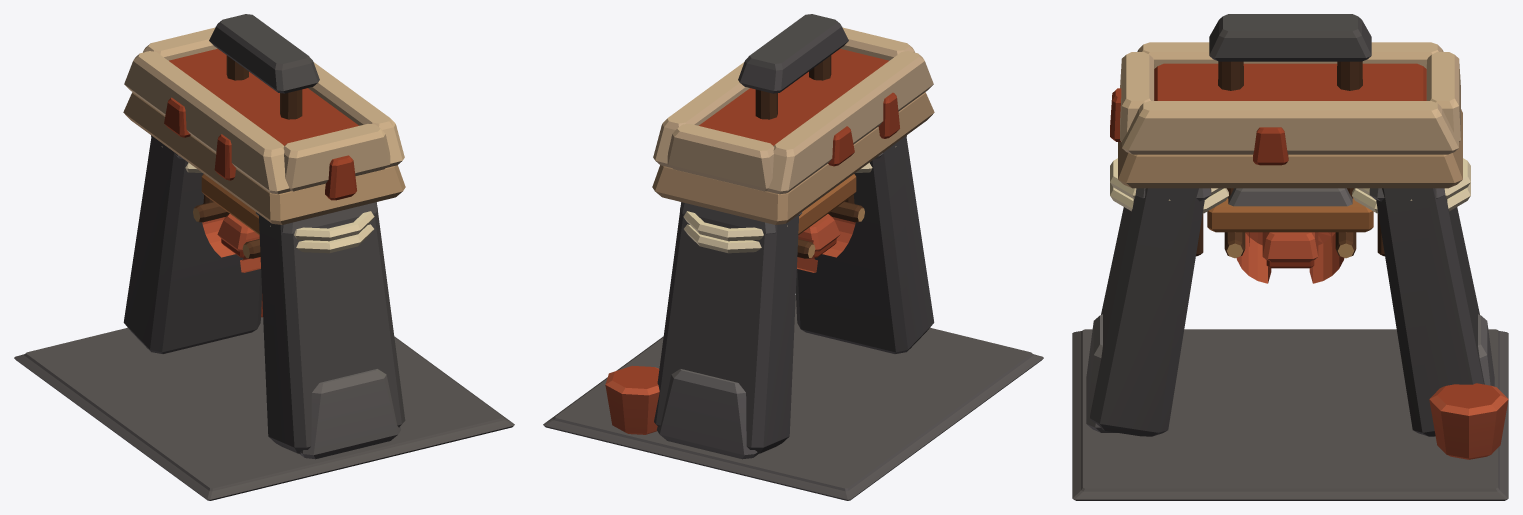
File: clay_molder.glb
3 renders of one model, left to right at view 1: azimuth 30°, elevation 25°; view 2: azimuth 150°, elevation 25°; view 3: azimuth 270°, elevation 25°, orthographic. The views are drawn at different scales.
Visible parts, largest first — view 1: ClayMolder_Static, AnimatedPart, ClayJaw_PosY, ClayJaw_NegY; view 2: ClayMolder_Static, AnimatedPart, ClayJaw_NegY, ClayJaw_PosY; view 3: ClayMolder_Static, AnimatedPart, ClayJaw_NegY, ClayJaw_PosY.
Boxes of the visible parts, x1=… form: ClayMolder_Static: x1=14, y1=27, x2=514, y2=500; AnimatedPart: x1=201, y1=14, x2=319, y2=257; ClayJaw_PosY: x1=193, y1=201, x2=235, y2=257; ClayJaw_NegY: x1=240, y1=236, x2=260, y2=272; ClayMolder_Static: x1=543, y1=27, x2=1043, y2=500; AnimatedPart: x1=738, y1=14, x2=856, y2=257; ClayJaw_NegY: x1=822, y1=201, x2=864, y2=257; ClayJaw_PosY: x1=797, y1=236, x2=817, y2=272; ClayMolder_Static: x1=1072, y1=42, x2=1508, y2=500; AnimatedPart: x1=1207, y1=14, x2=1373, y2=268; ClayJaw_NegY: x1=1224, y1=232, x2=1271, y2=283; ClayJaw_PosY: x1=1309, y1=232, x2=1356, y2=283.
Size of the model in its own units: 2 by 2.2 by 2.2.
